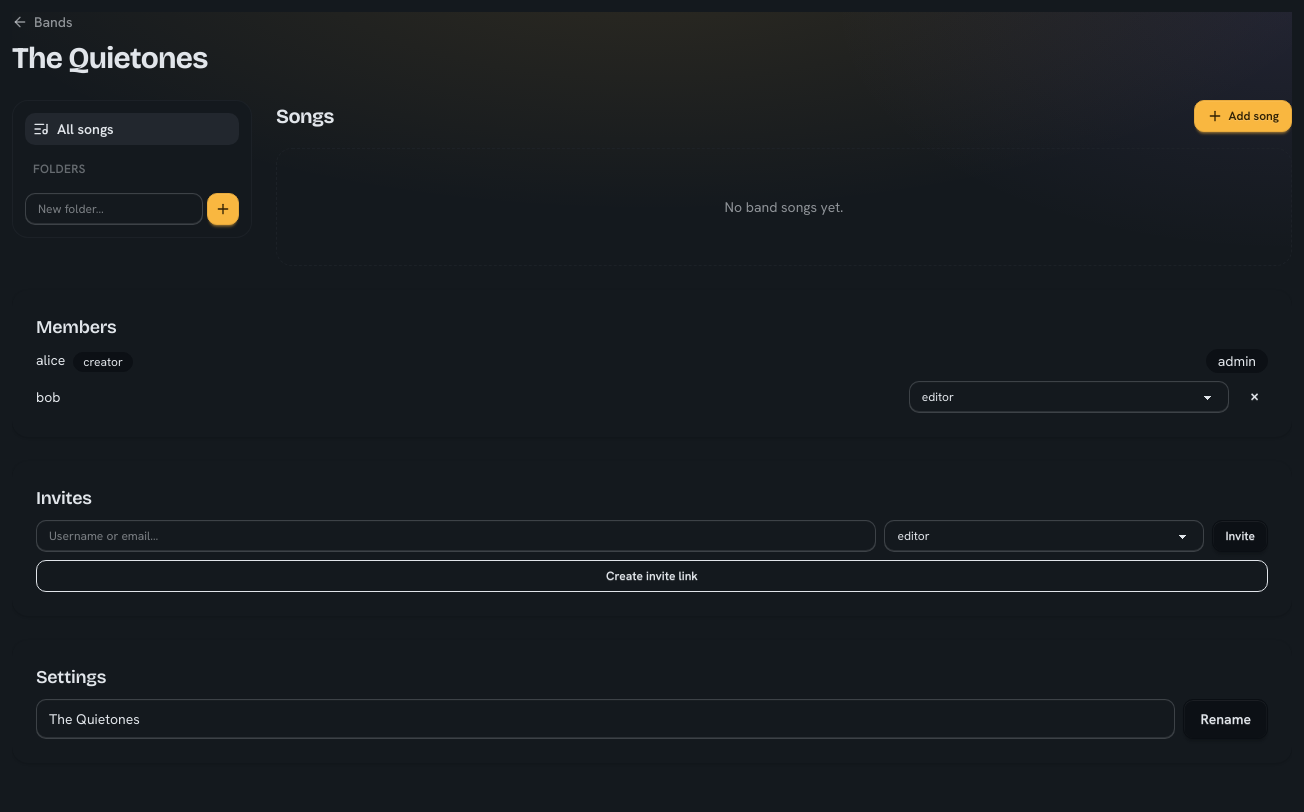
BandPage › admins can create a share link and see the token once
Expected: the text "bob" is shown, top-left (36, 388), bottom-right (60, 406)
Click the button "Create invite link": (652, 576) top-left (36, 560), bottom-right (1268, 592)
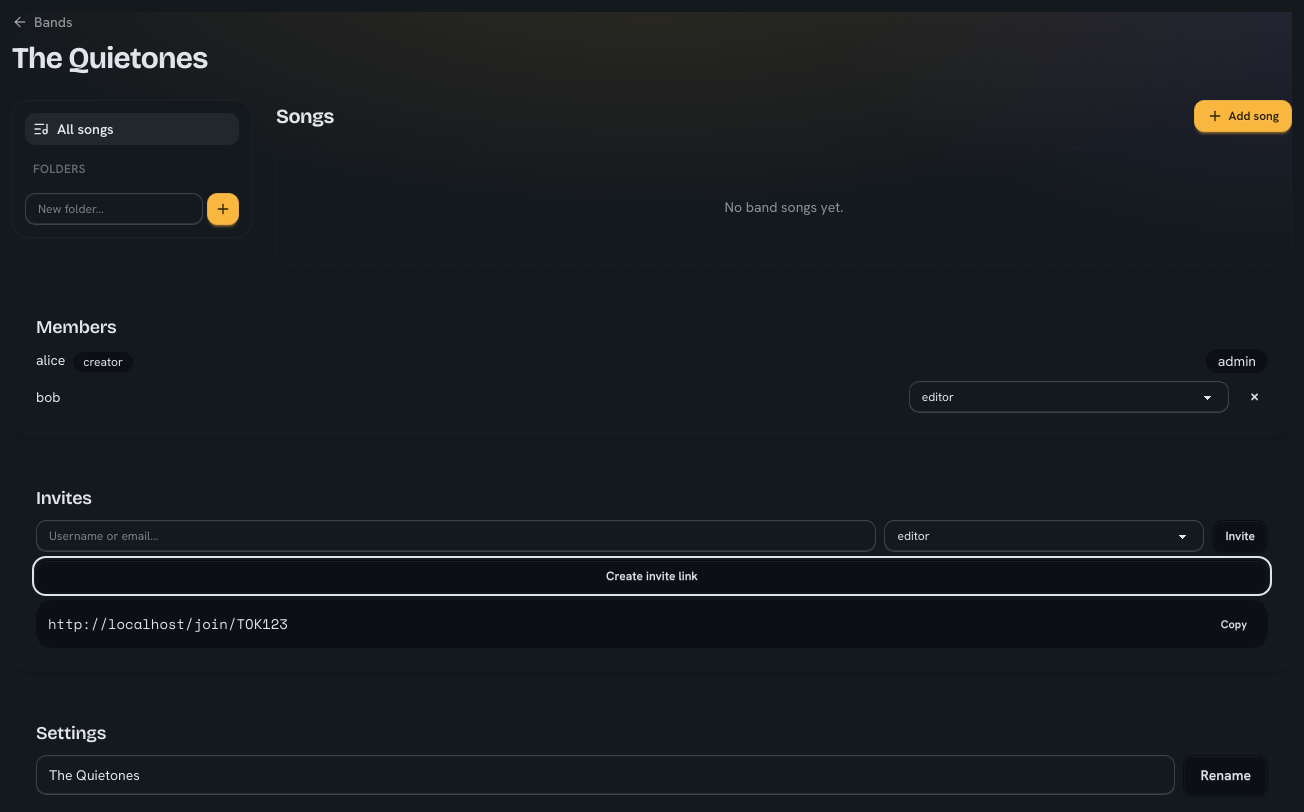
Result: the text "http://localhost/join/TOK123" is shown at top-left (48, 613), bottom-right (288, 634)
